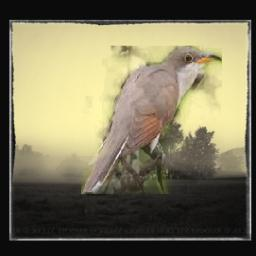Cuckoo: (80, 46, 221, 194)
